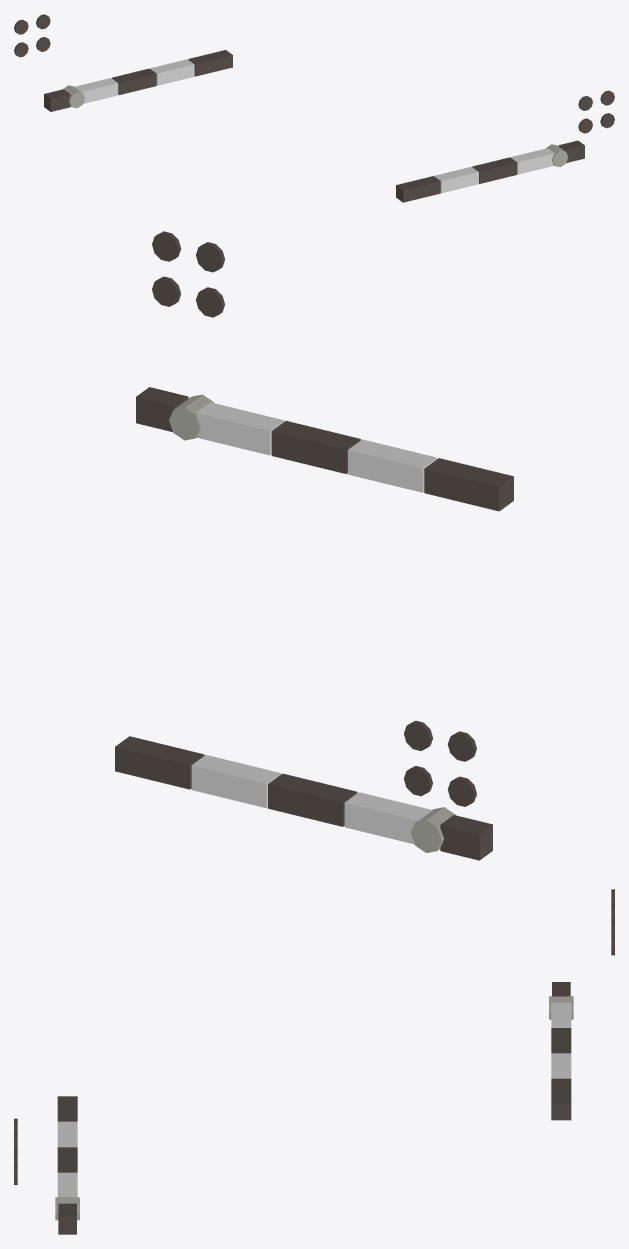
The model's file is SM_PasoNivel_90_v1_FocosDobles_LOD1.fbx.
The picture shows the model from 3 angles, top to bottom: view 1: azimuth 30°, elevation 25°; view 2: azimuth 150°, elevation 25°; view 3: azimuth 270°, elevation 25°; orthographic projection. The views are drawn at different scales.
Visible parts, largest first — view 1: Barrera_1, Barrera_2, Luces_A, Luces_B; view 2: Barrera_2, Barrera_1, Luces_A, Luces_B; view 3: Barrera_1, Barrera_2.
Part boxes in pixels (x1,y1,x2,y2): Barrera_1: (396, 140, 584, 202); Barrera_2: (44, 50, 232, 111); Luces_A: (14, 19, 592, 133); Luces_B: (36, 14, 614, 128); Barrera_2: (115, 736, 492, 860); Barrera_1: (136, 387, 513, 511); Luces_A: (196, 242, 476, 806); Luces_B: (152, 231, 432, 796); Barrera_1: (55, 1096, 79, 1234); Barrera_2: (549, 982, 573, 1120).
Size of what is drawn, in the model's own units: 9.7 by 1.91 by 9.74.
